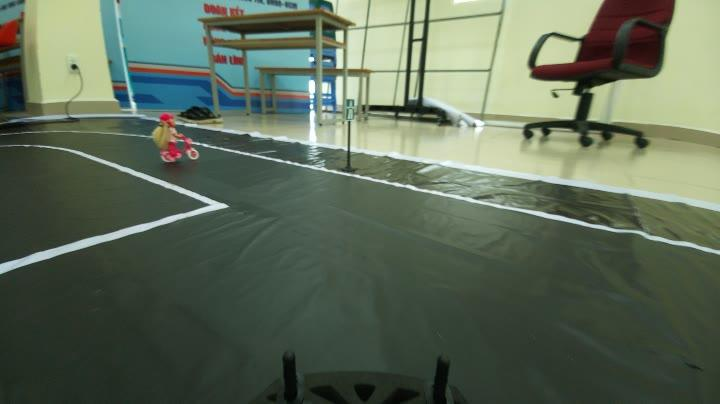highway_entry: (334, 97, 364, 123)
pedestrian: (142, 113, 206, 164)
